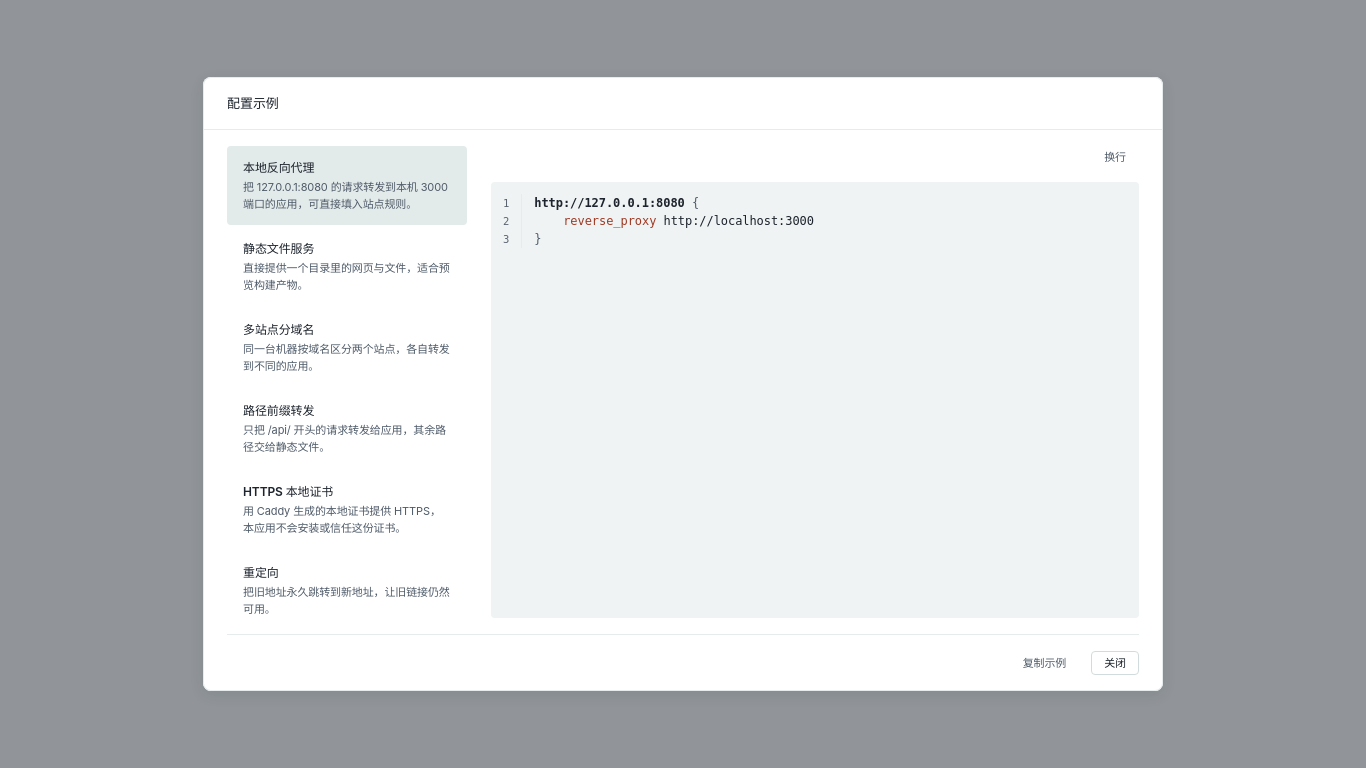
CaddyExamplesDialog › copies the selected example's Caddyfile text and confirms beside the button
The width and height of the screenshot is (1366, 768).
Click the tab "静态文件服务 直接提供一个目录里的网页与文件，适合预览构建产物。" at (347, 266), box [227,227,467,306]
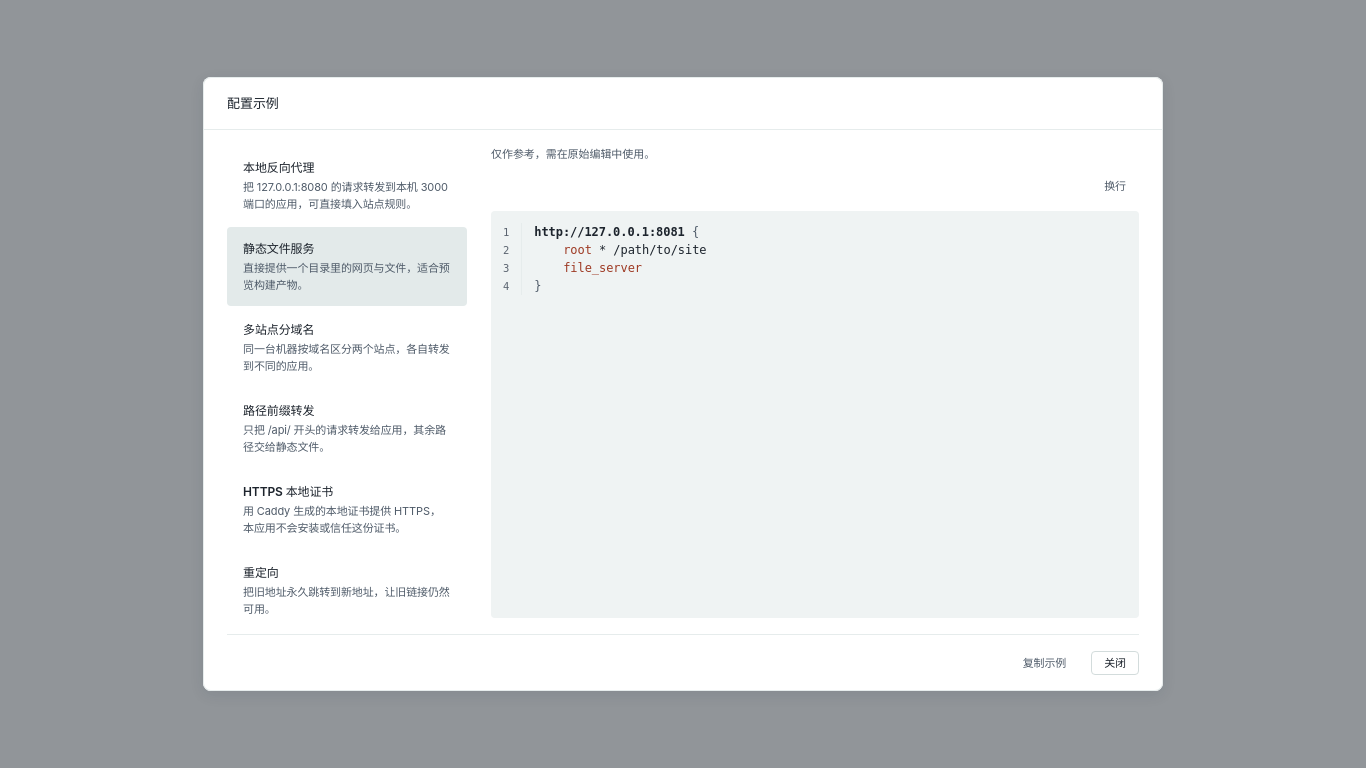
Click the button "复制示例" at (1044, 663), box [1010,651,1079,675]
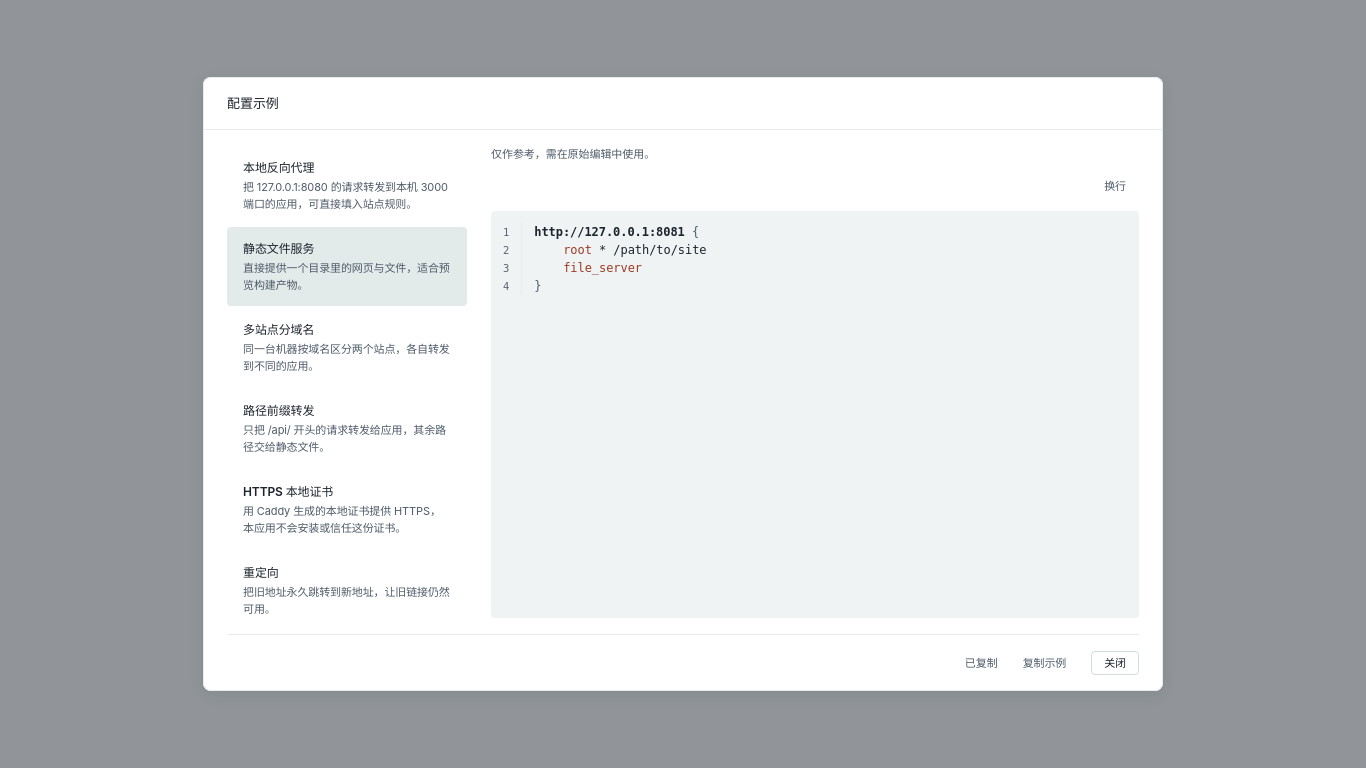
expect the text "已复制" is shown: met, box [965,655,998,672]
